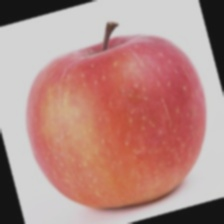apple: (26, 38, 175, 204)
